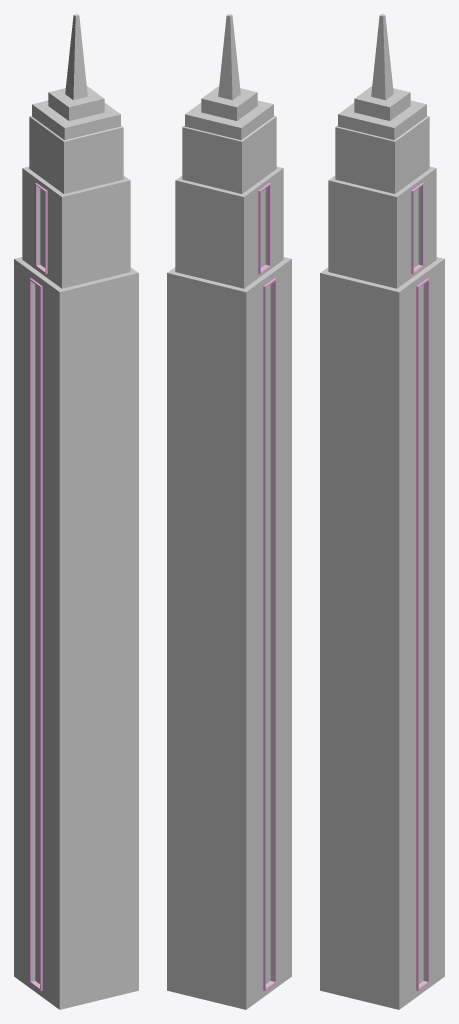
The model's file is SM_Environment_Buildings_Tall_04.fbx.
3 views of the same model, side by side, from view 1: azimuth 30°, elevation 25°; view 2: azimuth 150°, elevation 25°; view 3: azimuth 330°, elevation 25° (orthographic).
Visible parts, largest first — view 1: SM_Environment_Buildings_Tall_05, Lights; view 2: SM_Environment_Buildings_Tall_05, Lights; view 3: SM_Environment_Buildings_Tall_05, Lights.
Part boxes in pixels (box(x1,y1,x2,y2)): SM_Environment_Buildings_Tall_05: box(14, 14, 138, 1009); Lights: box(29, 183, 47, 990); SM_Environment_Buildings_Tall_05: box(167, 14, 291, 1009); Lights: box(258, 183, 276, 990); SM_Environment_Buildings_Tall_05: box(320, 14, 444, 1009); Lights: box(411, 183, 429, 990).
Bounding box in the file's own units: 6.27 × 70.16 × 6.
